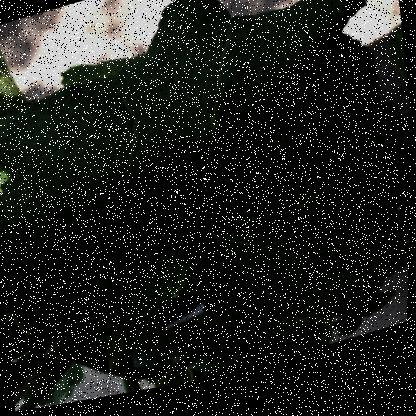Normal: (0, 0, 415, 410)
